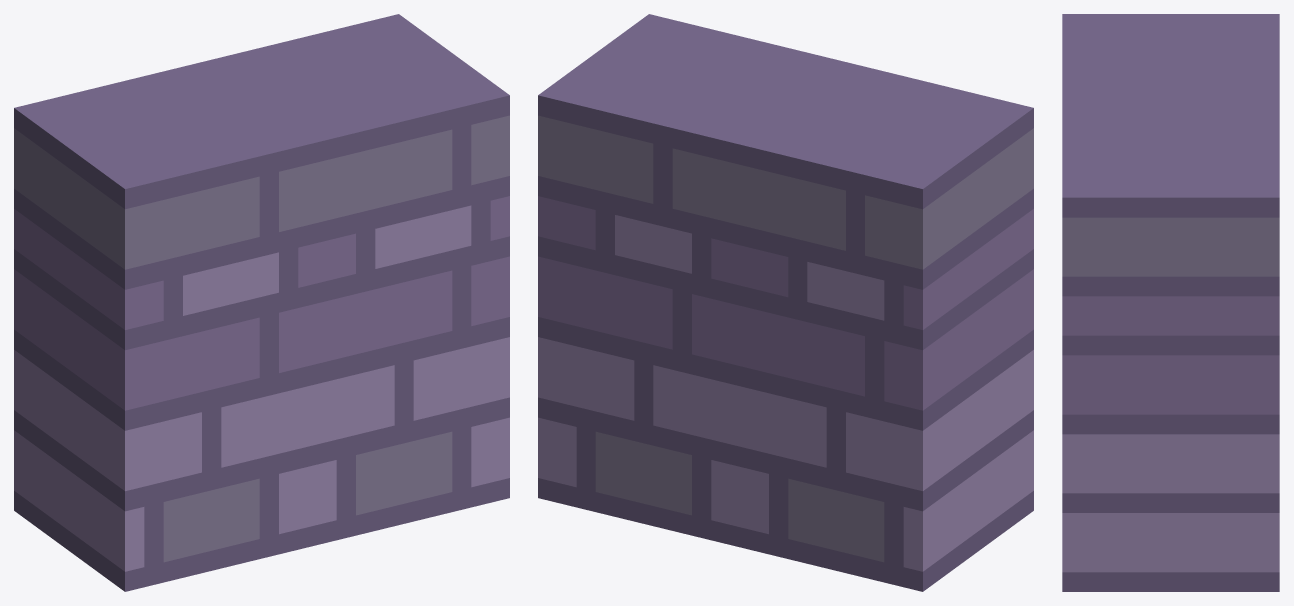
The model's file is wall_Double.obj.
The picture shows the model from 3 angles, left to right: view 1: azimuth 30°, elevation 25°; view 2: azimuth 150°, elevation 25°; view 3: azimuth 270°, elevation 25°; orthographic projection. The views are drawn at different scales.
Parts seen in each view (by area): view 1: wall_Double; view 2: wall_Double; view 3: wall_Double.
Boxes of the visible parts, x1,y1,x2,y2 form: wall_Double: [14, 14, 509, 591]; wall_Double: [538, 14, 1033, 591]; wall_Double: [1062, 14, 1279, 591].
Bounding box in the file's own units: 20 × 20 × 10.
Materials: 1 (1 with a texture image).
